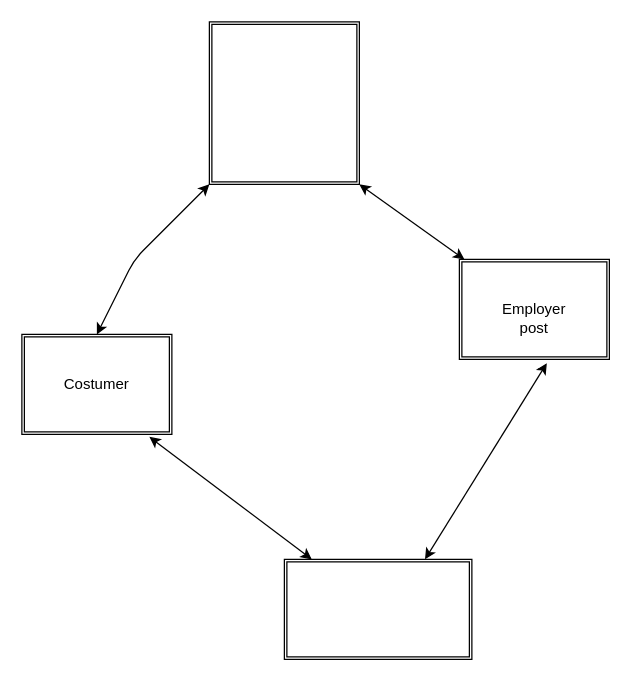
The diagram is 631 pixels wide and 681 high, and some of its shapes have lost their labels. The shapes that lost their labels are listed below. From the top down, each one's centre as x and y in pixels, then its label:
At pixel 283 102: "User image email username passw".
At pixel 377 608: "Post image Employer Costumer".
